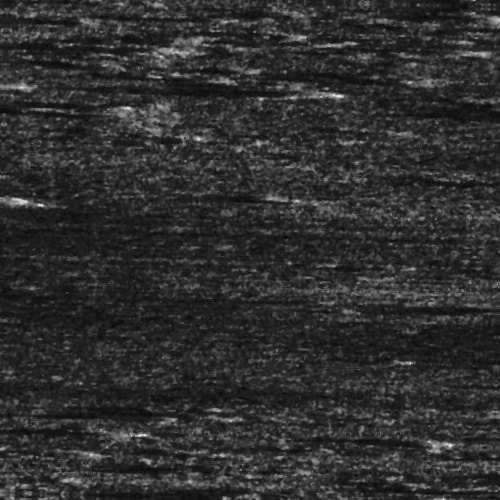object: (275, 82, 368, 99), (102, 429, 185, 440), (247, 190, 310, 203), (134, 46, 207, 55), (0, 199, 50, 208), (0, 87, 50, 94), (404, 432, 457, 437), (487, 170, 500, 179), (480, 38, 500, 41), (486, 357, 500, 360)
shadow: (95, 82, 321, 99), (0, 190, 279, 203), (355, 483, 500, 500), (0, 429, 143, 440), (0, 46, 171, 55), (464, 451, 500, 486), (385, 170, 500, 179), (353, 296, 500, 301), (311, 432, 430, 437), (389, 357, 500, 360), (386, 38, 495, 41), (462, 426, 500, 433), (461, 374, 500, 379), (465, 18, 500, 23), (333, 481, 500, 482), (0, 87, 18, 94)
